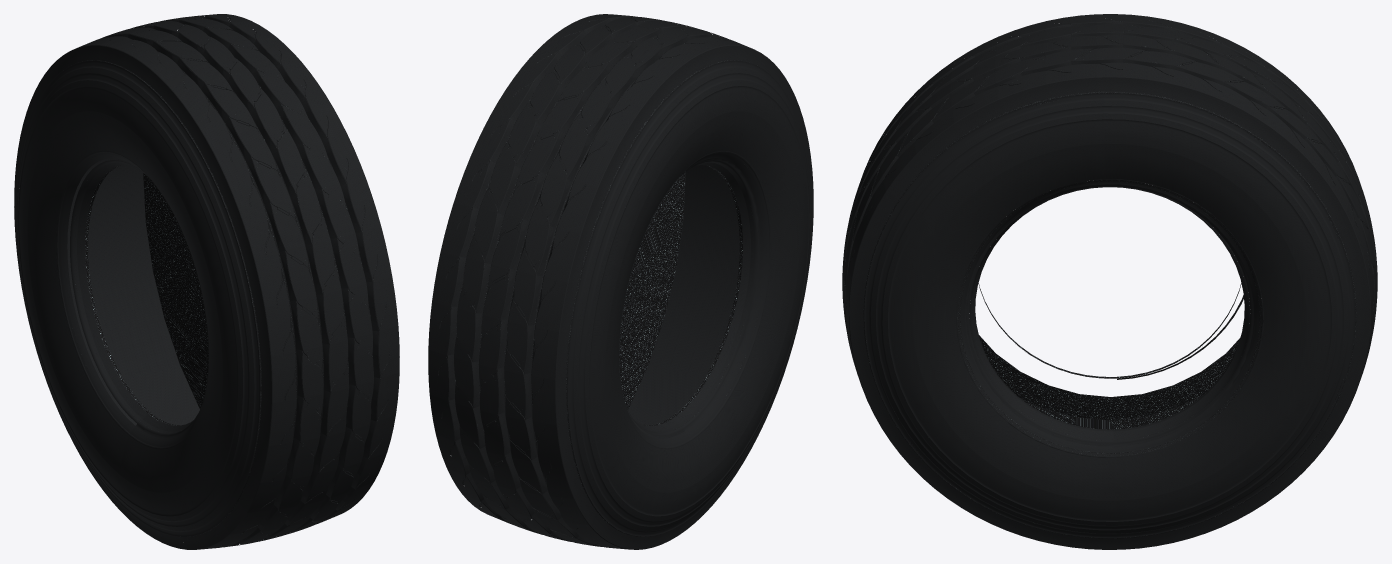
Rendered from R02_PRO_TRAILER_M1_7MB.glb.
3 views of the same model, side by side, from view 1: azimuth 30°, elevation 25°; view 2: azimuth 150°, elevation 25°; view 3: azimuth 270°, elevation 25° (orthographic).
Visible parts, largest first — view 1: yanak2, Cylinder, empty_13, empty_18, empty_8, empty_23, empty_3, empty_28, empty_133, empty_33, empty_12, empty_17 (+44 smaller); view 2: yanak2, Cylinder, empty_68, empty_73, empty_63, empty_78, empty_58, empty_83, empty_53, empty_88, empty_67, empty_72 (+44 smaller); view 3: yanak_1, Cylinder, empty_45, empty_40, empty_50, empty_35, empty_55, empty_43, empty_38, empty_30, empty_48, empty_33 (+30 smaller).
Boxes of the visible parts, x1,y1,x2,y2 form: yanak2: (17,60,260,536); Cylinder: (67,28,383,515); empty_13: (312,232,372,294); empty_18: (296,183,361,243); empty_8: (323,281,378,344); empty_23: (277,138,346,194); empty_3: (328,331,380,392); empty_28: (255,98,327,148); empty_133: (326,377,380,435); empty_33: (231,65,305,108); empty_12: (243,252,288,307); empty_17: (229,203,277,261); yanak2: (567,60,810,536); Cylinder: (442,39,739,505); empty_68: (460,207,522,268); empty_73: (451,256,509,319); empty_63: (473,160,540,218); empty_78: (448,306,501,368); empty_58: (490,118,561,171); empty_83: (447,354,499,414); empty_53: (511,81,584,128); empty_88: (449,399,504,455); empty_67: (544,227,591,284); empty_72: (535,277,578,332); yanak_1: (864,93,1355,538); Cylinder: (864,41,1355,506); empty_45: (1097,62,1148,95); empty_40: (1045,64,1097,99); empty_50: (1146,66,1198,105); empty_35: (997,71,1050,113); empty_55: (1192,78,1245,124); empty_43: (1097,35,1149,65); empty_38: (1045,36,1097,70); empty_30: (952,87,1004,136); empty_48: (1148,38,1200,77); empty_33: (995,43,1046,85).
Bounding box in the file's own units: 27.31 × 76.63 × 76.63.
3 materials, 3 textured.
